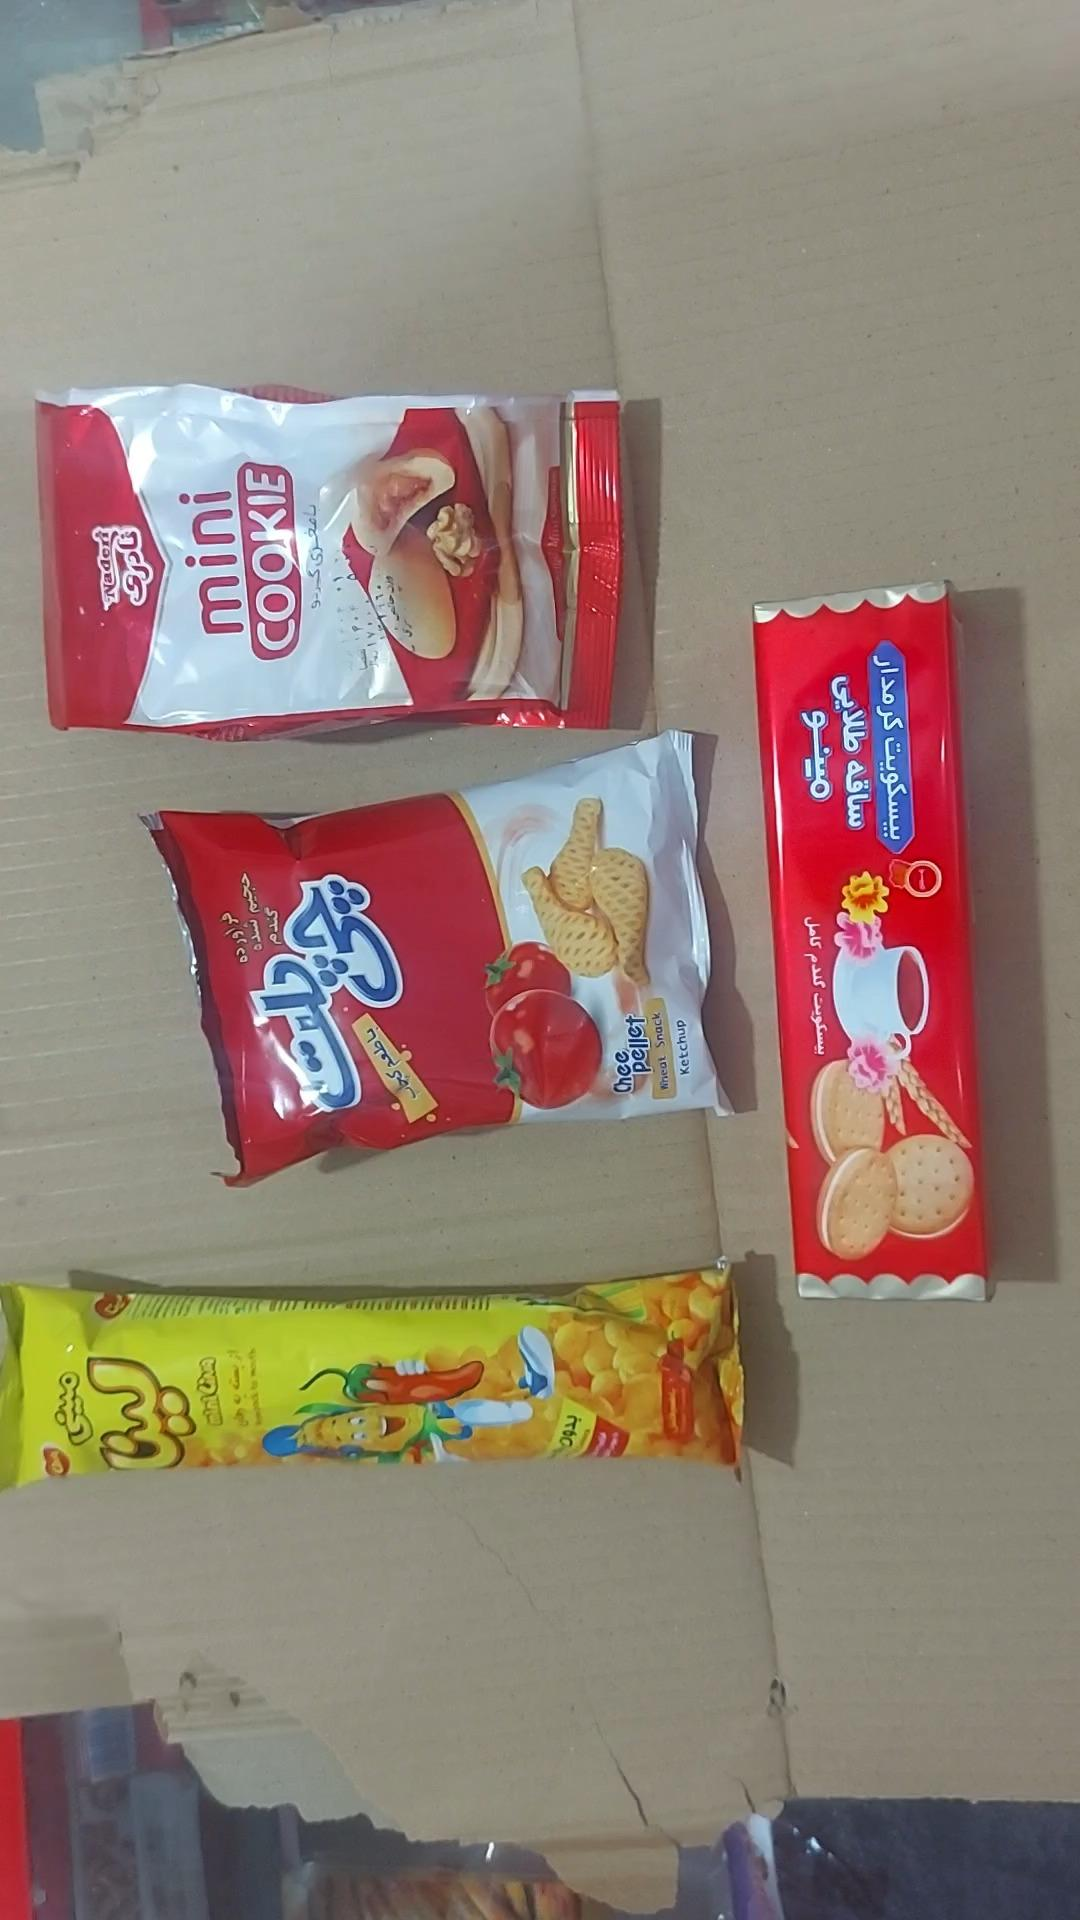Chee pellet ketchup: (138, 732, 723, 1189)
Mini Lina: (0, 1267, 742, 1491)
Minoo cream biscuit: (753, 582, 996, 1305)
Naderi mini cookie: (34, 382, 622, 742)
